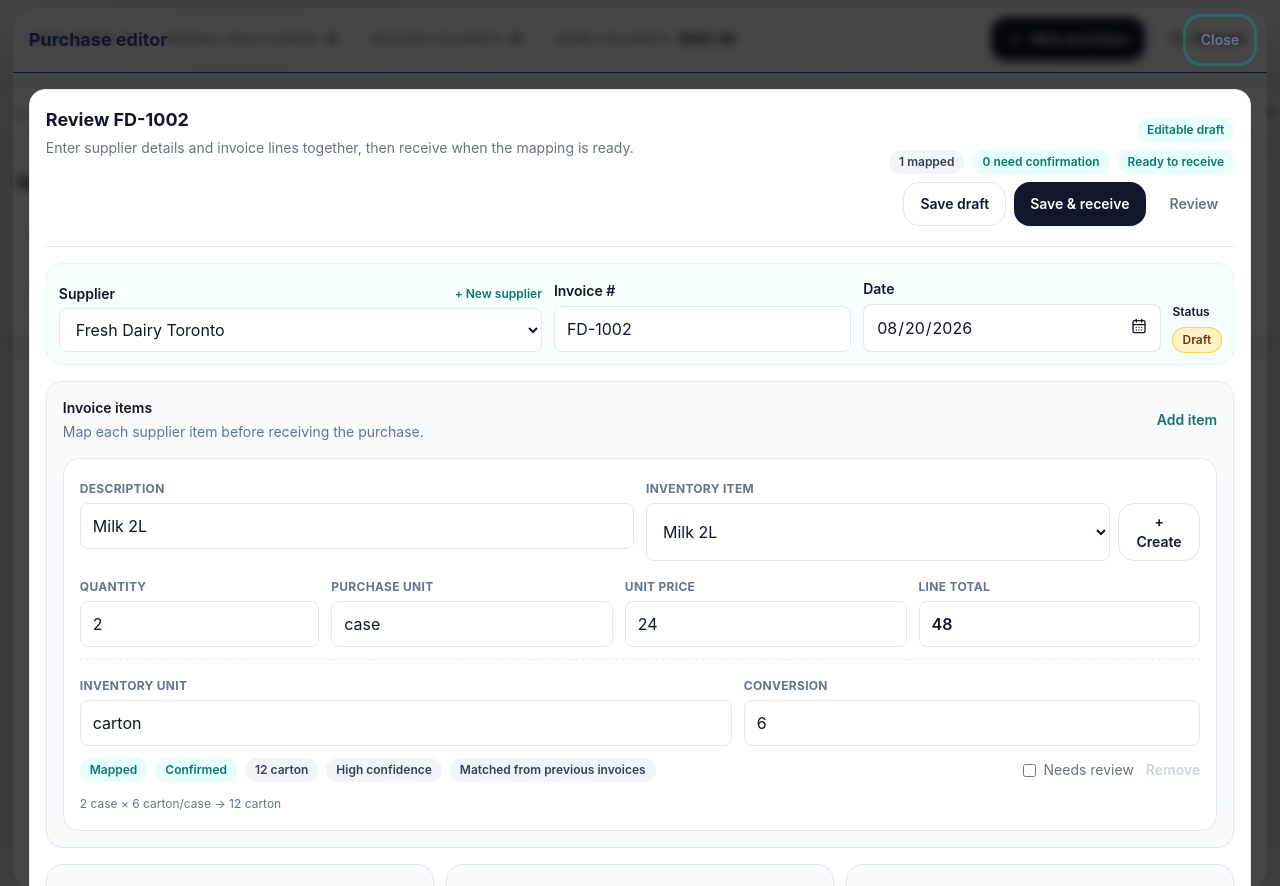
Test: PilotPurchasesPage › blocks another receive attempt when receipt status cannot be confirmed
Expected: the heading "Review FD-1002" is shown, [46,109,189,130]
Click the button "Review".
click(1194, 204)  # box [1154,182,1234,226]
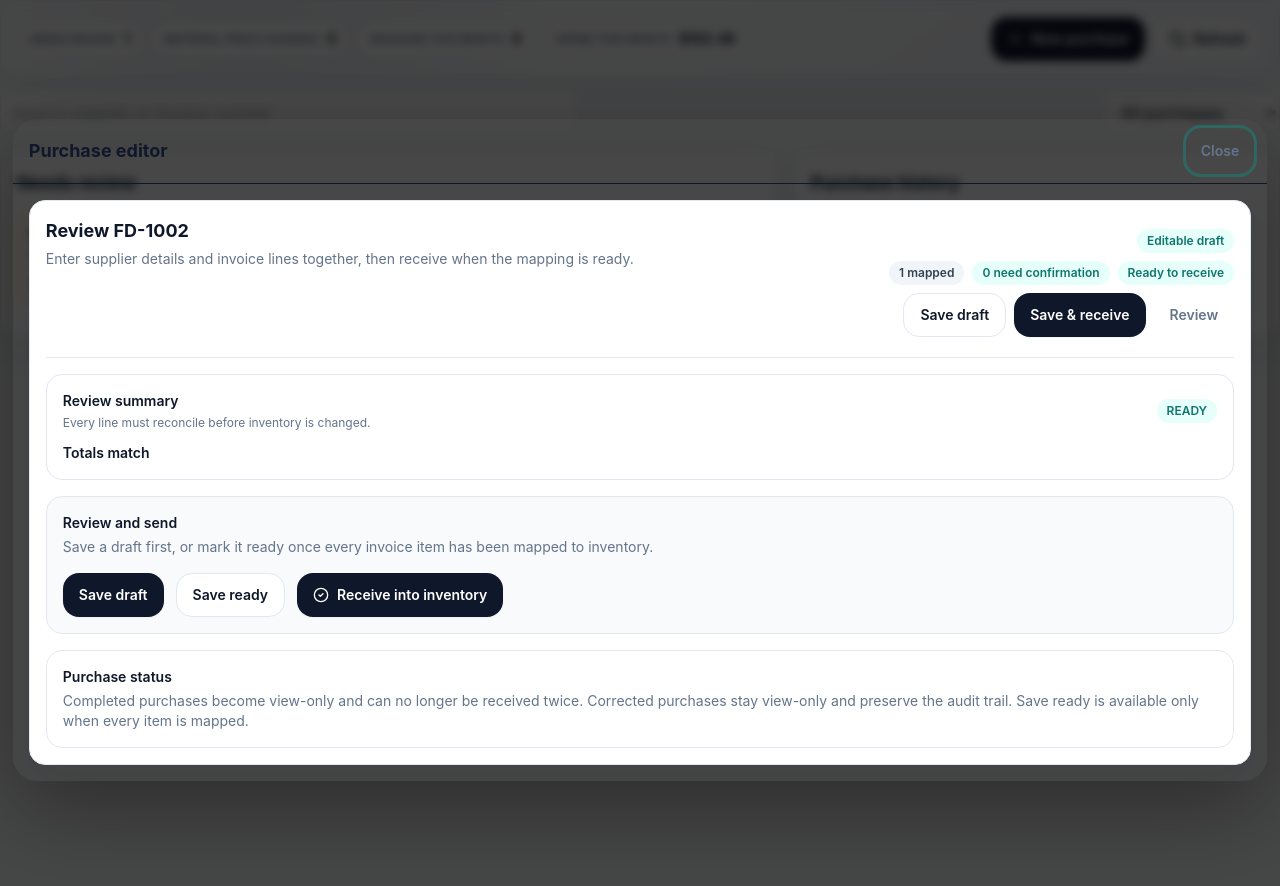
Click the button "Receive into inventory".
click(400, 595)  # box [297,573,503,617]
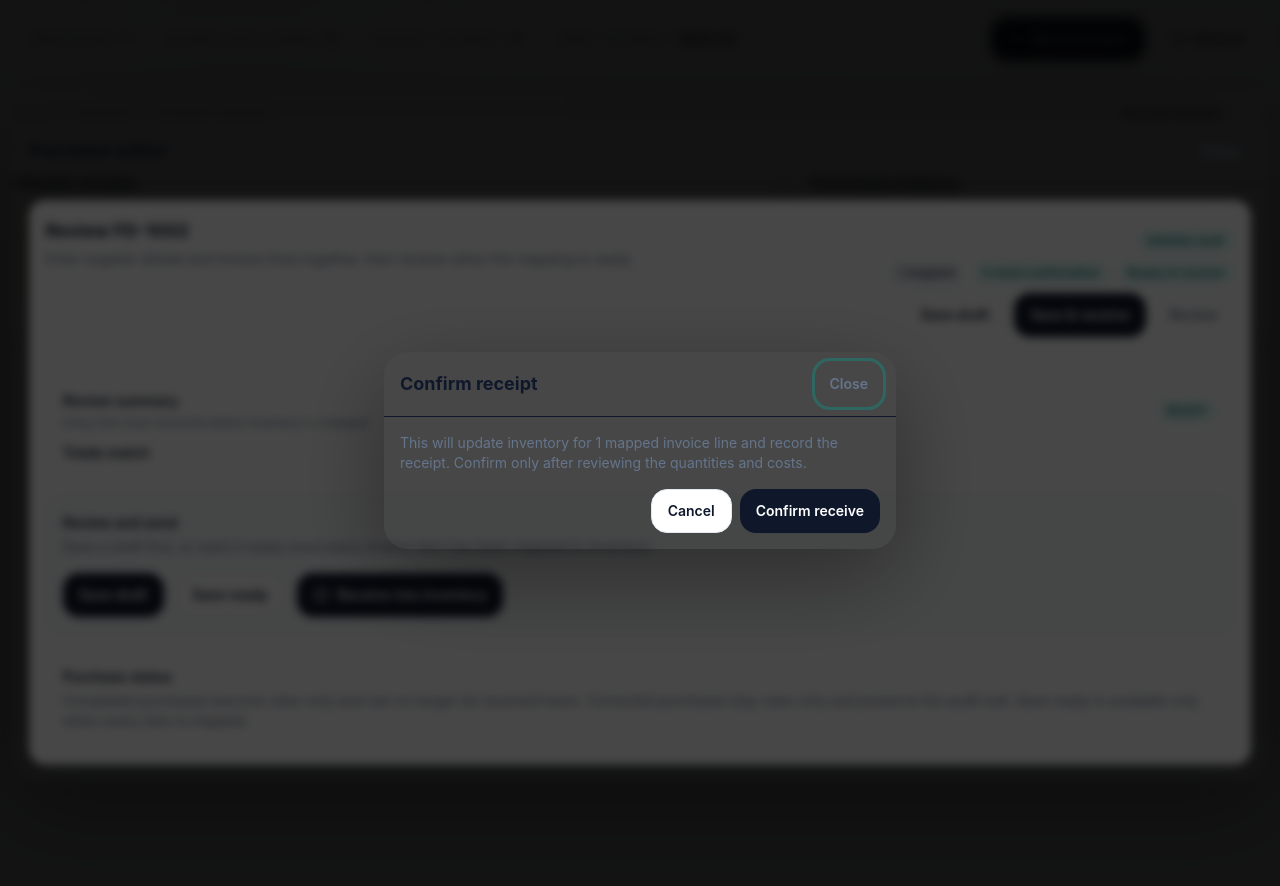
Click the button "Confirm receive".
click(810, 510)  # box [740,488,880,532]
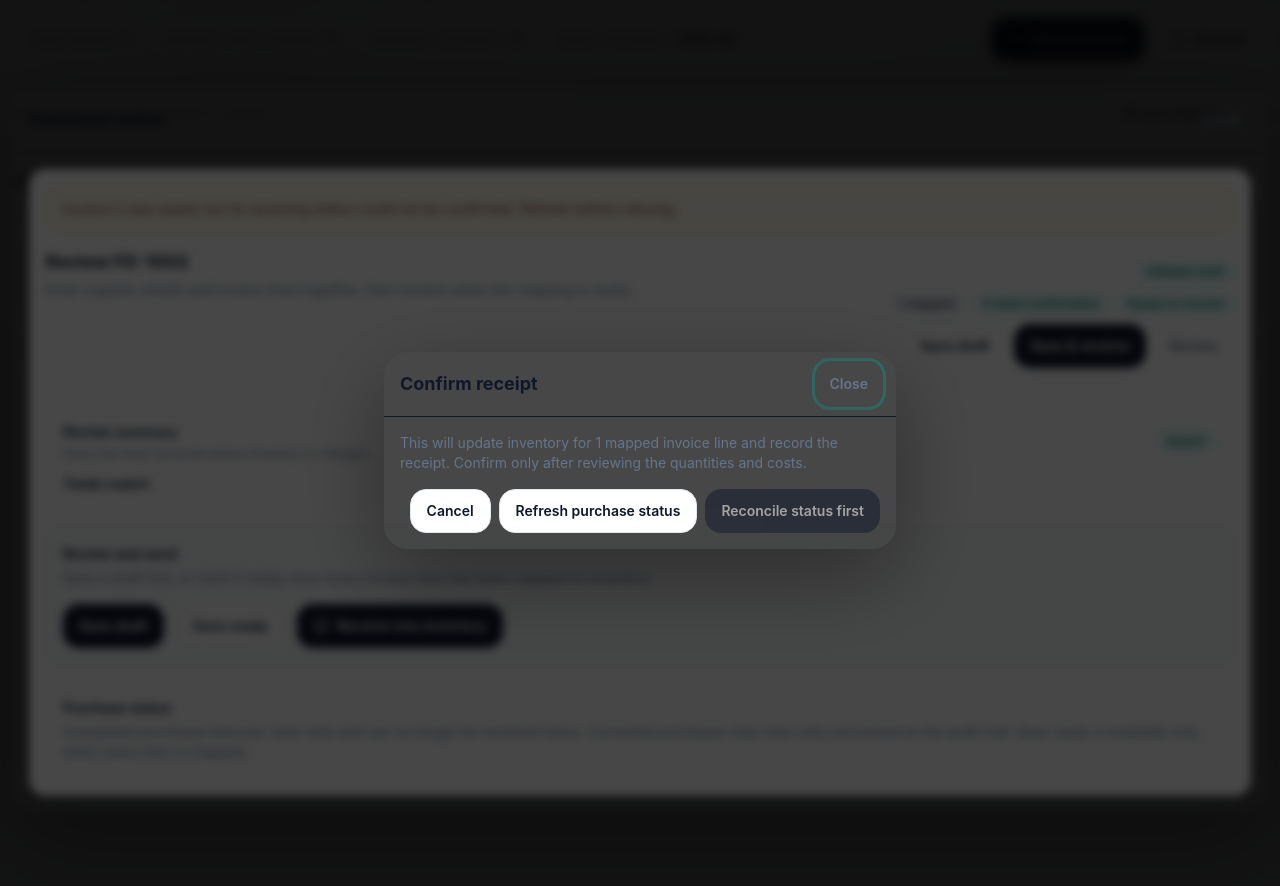
Expected: the button "Reconcile status first" is disabled, [705,488,880,532]
Expected: the button "Refresh purchase status" is shown, [499,488,697,532]
